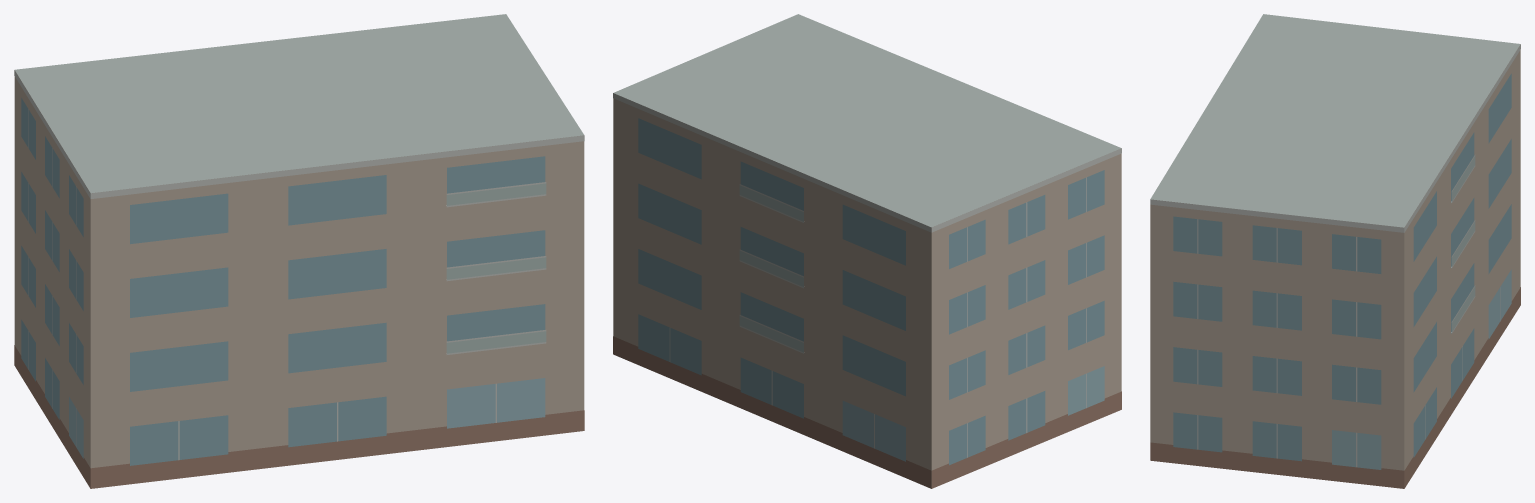
The model's file is survey-upis-32711194.glb.
3 renders of one model, left to right at view 1: azimuth 30°, elevation 25°; view 2: azimuth 150°, elevation 25°; view 3: azimuth 270°, elevation 25°, orthographic. The views are drawn at different scales.
Visible parts, largest first — view 1: survey-upis-32711194.tmp; view 2: survey-upis-32711194.tmp; view 3: survey-upis-32711194.tmp.
Boxes of the visible parts, x1,y1,x2,y2 form: survey-upis-32711194.tmp: [14, 14, 584, 488]; survey-upis-32711194.tmp: [613, 14, 1121, 488]; survey-upis-32711194.tmp: [1150, 14, 1520, 488].
Size of the model in its own units: 21.41 by 12.2 by 15.7.
